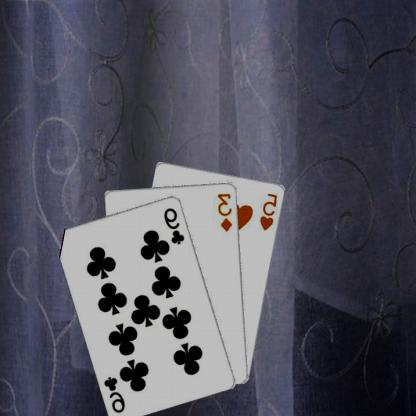3D: (217, 191, 235, 233)
5H: (259, 190, 281, 232)
9C: (163, 205, 188, 246), (103, 374, 128, 414)
